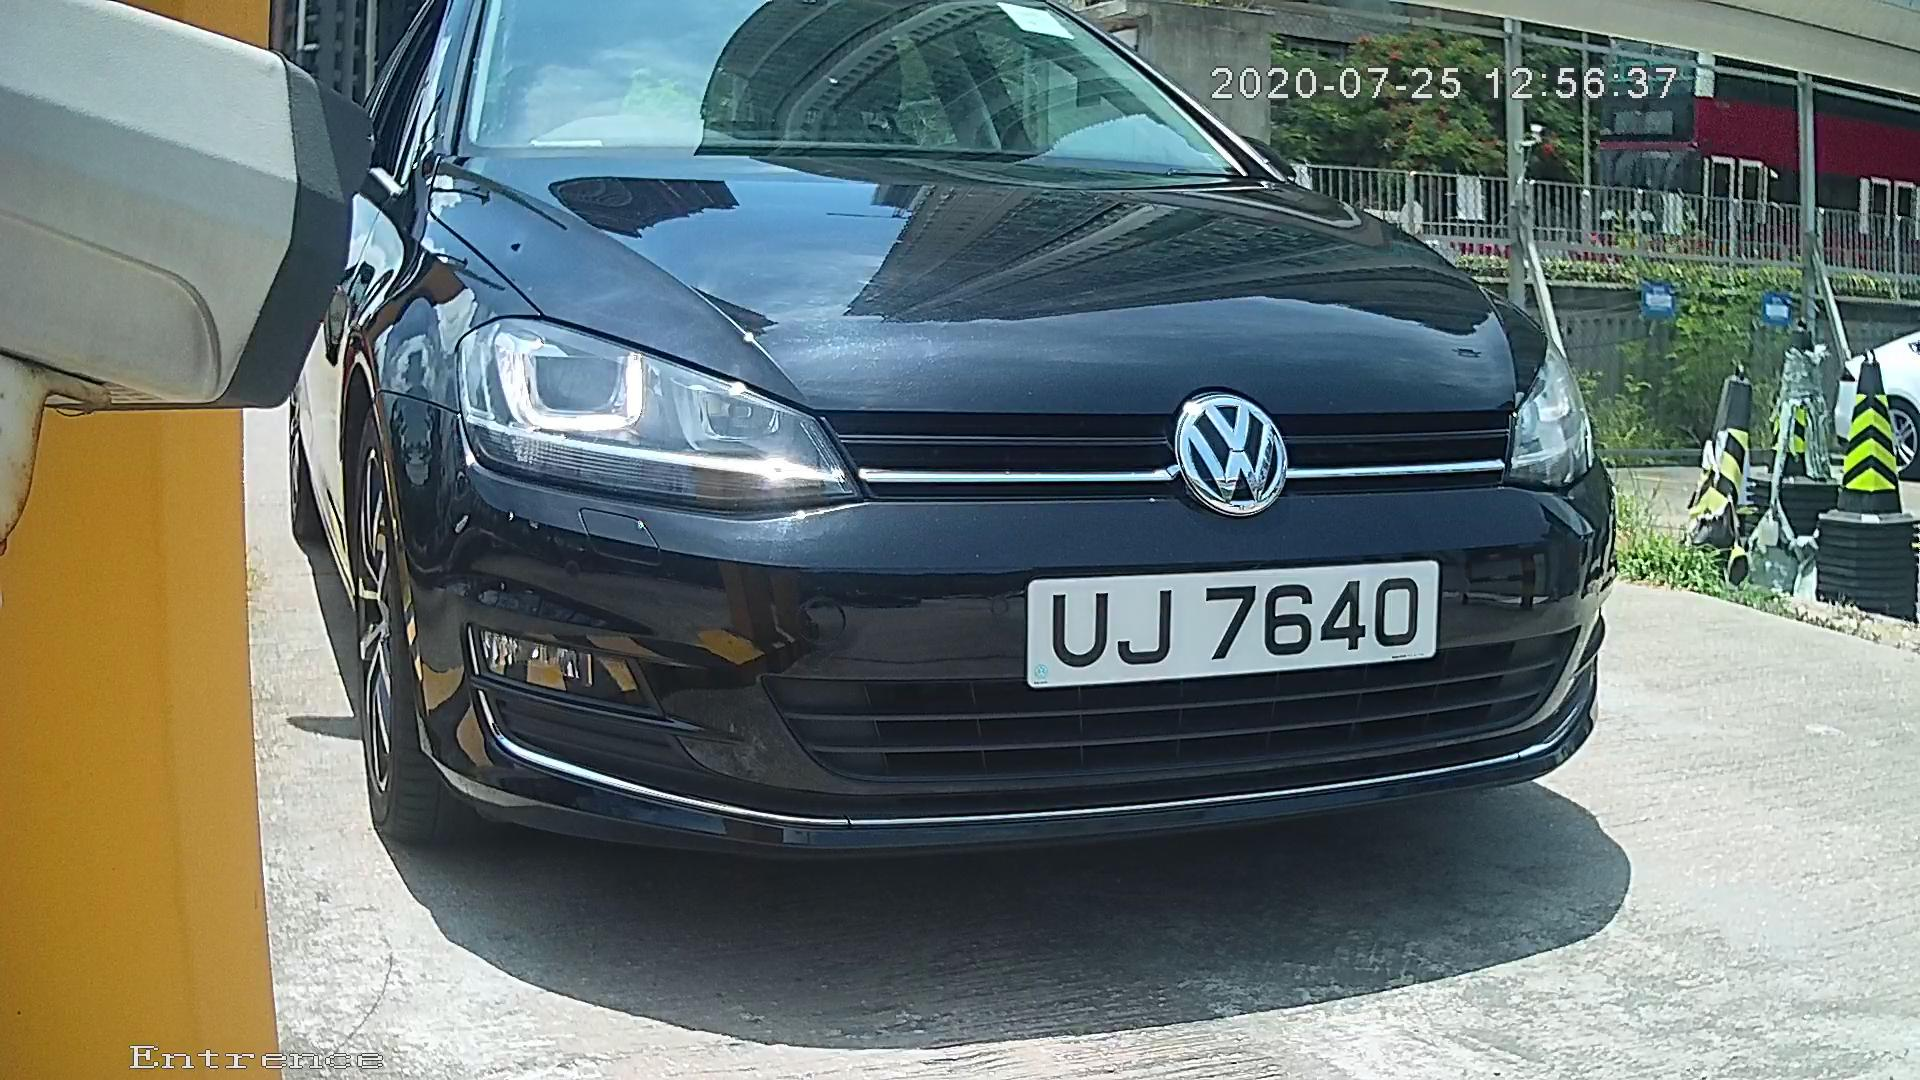Car: (155, 15, 1732, 936)
License Plate: (1012, 550, 1432, 700)
